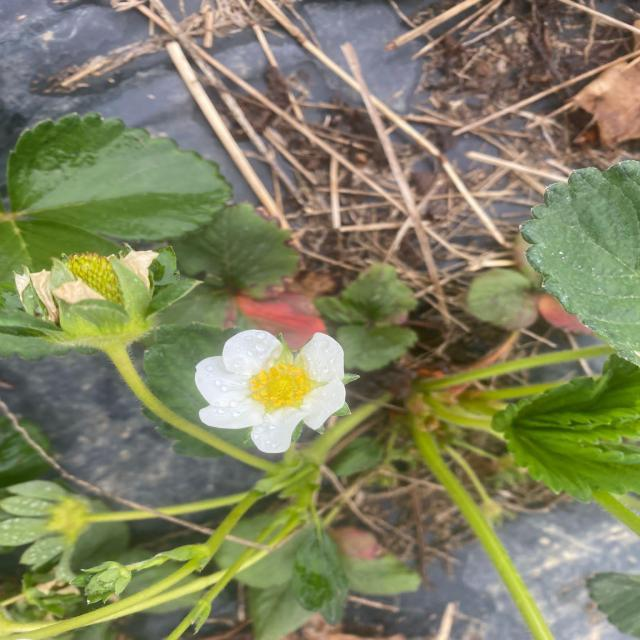flower: (198, 327, 342, 452)
